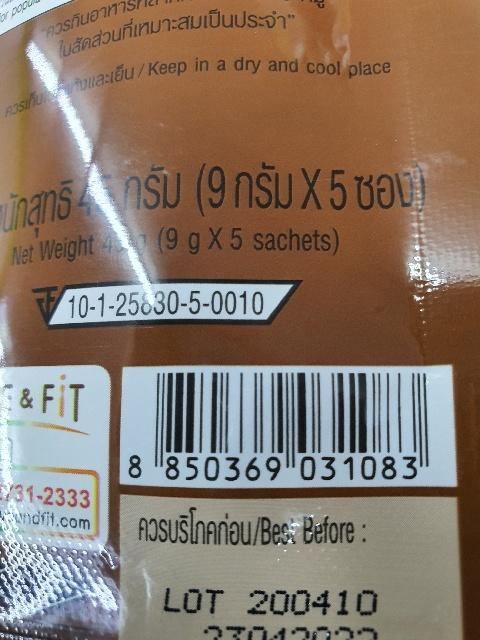Barcode: (121, 367, 454, 487)
